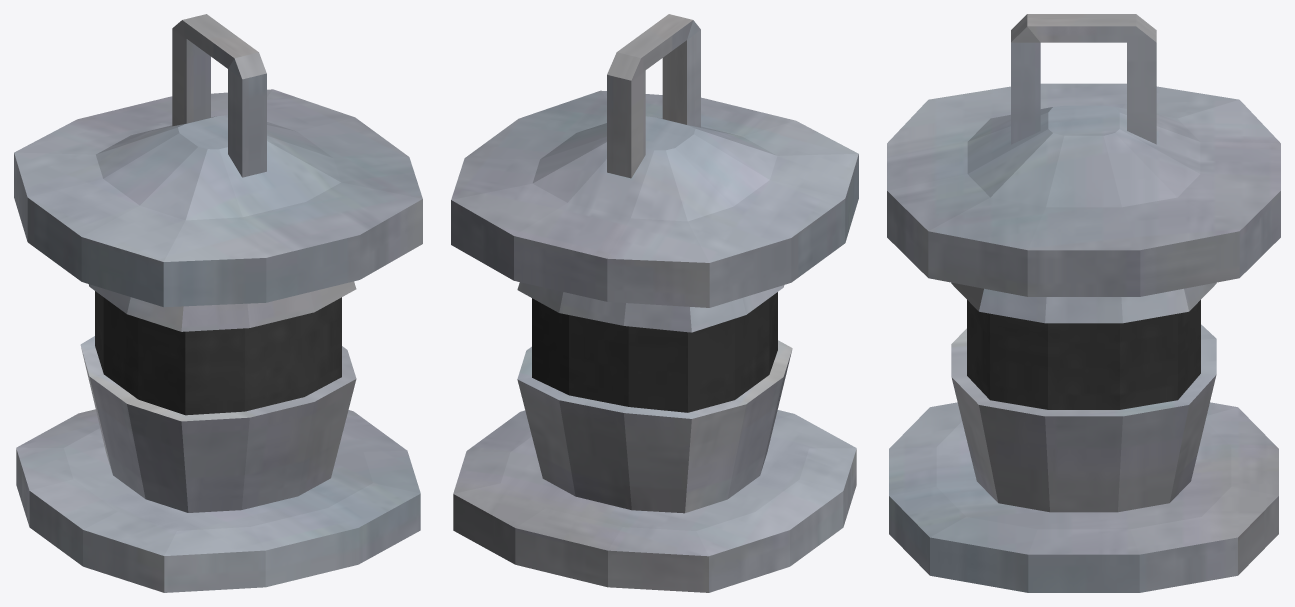
Rendered from lantern.fbx.
The picture shows the model from 3 angles, left to right: view 1: azimuth 30°, elevation 25°; view 2: azimuth 150°, elevation 25°; view 3: azimuth 270°, elevation 25°; orthographic projection. The views are drawn at different scales.
Visible parts, largest first — view 1: lantern; view 2: lantern; view 3: lantern.
Boxes of the visible parts, x1=… form: lantern: x1=14, y1=14, x2=422, y2=592; lantern: x1=451, y1=14, x2=858, y2=592; lantern: x1=887, y1=14, x2=1280, y2=592.
Size of the model in its own units: 95.34 by 131 by 95.34.
